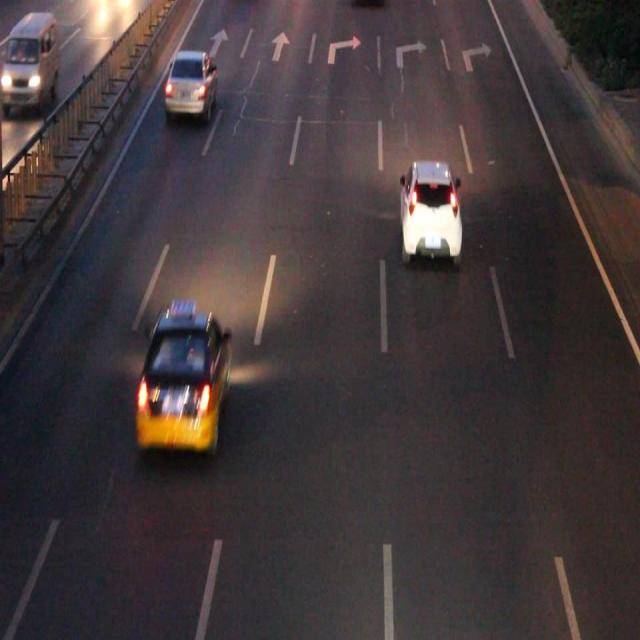car: (136, 305, 231, 446), (399, 160, 459, 254), (167, 54, 217, 110)
